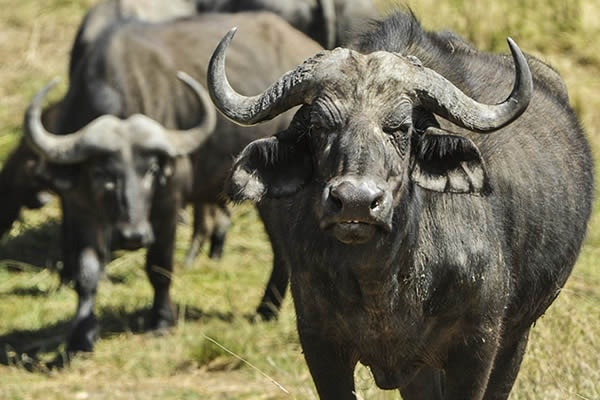buffalo: (202, 5, 595, 400), (19, 11, 337, 358)
